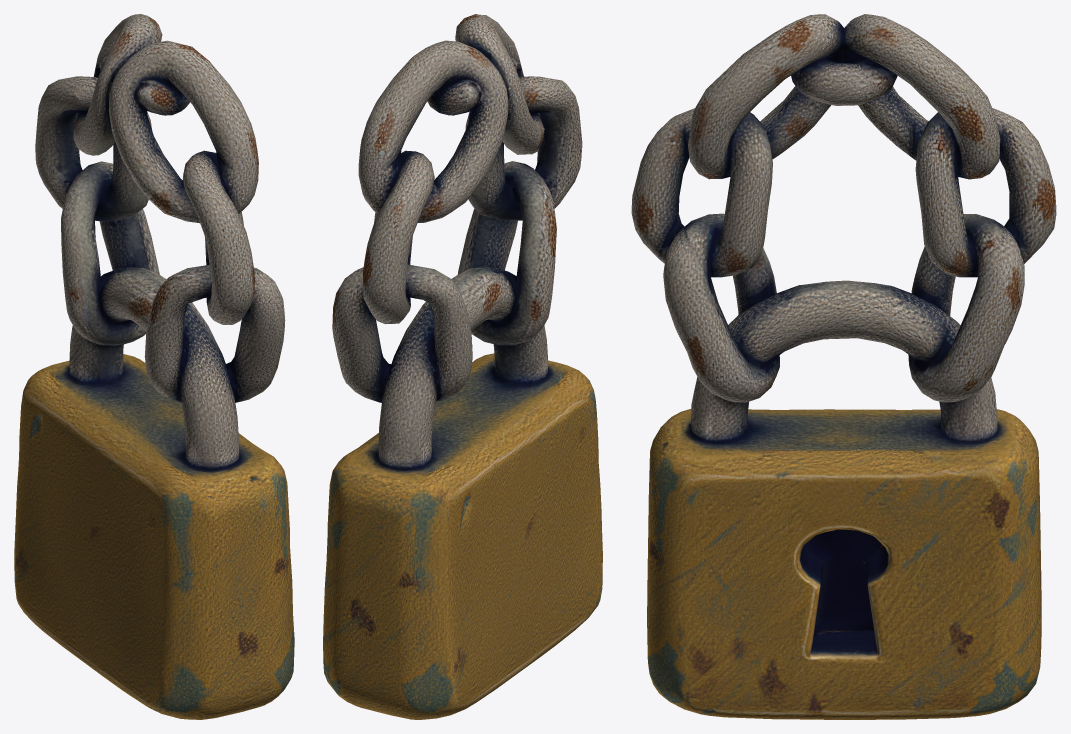
Rendered from Padlock.fbx.
The picture shows the model from 3 angles, left to right: view 1: azimuth 30°, elevation 25°; view 2: azimuth 150°, elevation 25°; view 3: azimuth 270°, elevation 25°; orthographic projection. The views are drawn at different scales.
Visible parts, largest first — view 1: tripo_node_41ef9c2a-e6fa-47ae-8242-9451b8f1a0d8; view 2: tripo_node_41ef9c2a-e6fa-47ae-8242-9451b8f1a0d8; view 3: tripo_node_41ef9c2a-e6fa-47ae-8242-9451b8f1a0d8.
Boxes of the visible parts, left/top/right/bottom form: tripo_node_41ef9c2a-e6fa-47ae-8242-9451b8f1a0d8: left=14, top=14, right=294, bottom=719; tripo_node_41ef9c2a-e6fa-47ae-8242-9451b8f1a0d8: left=323, top=14, right=602, bottom=719; tripo_node_41ef9c2a-e6fa-47ae-8242-9451b8f1a0d8: left=631, top=14, right=1056, bottom=719.
Bounding box in the file's own units: 21.81 × 100 × 56.48.
Materials: 1 (1 with a texture image).
